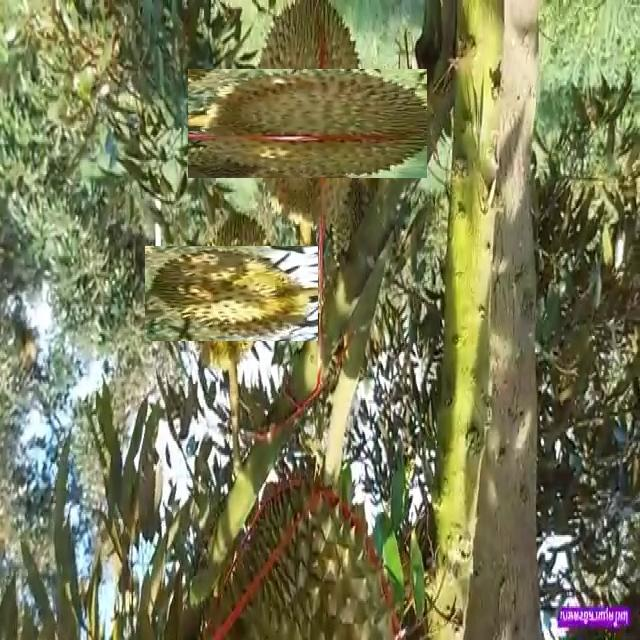durian: (200, 470, 404, 640), (221, 36, 395, 211), (164, 226, 299, 360)
